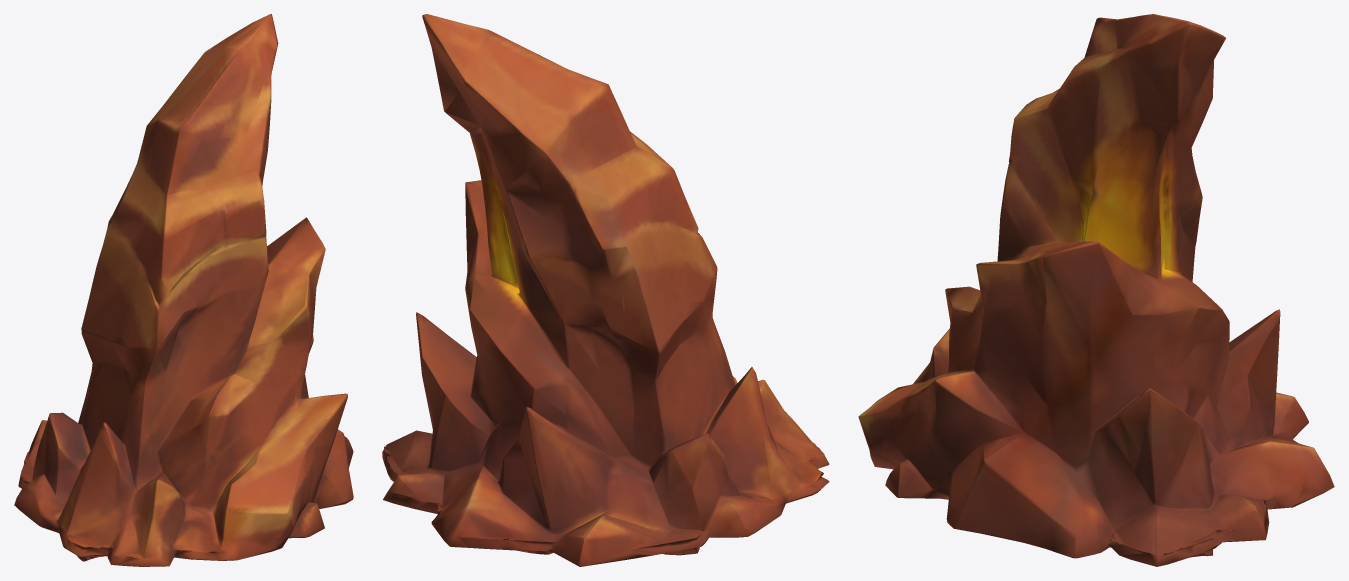
Rendered from 地裂岩柱.glb.
The picture shows the model from 3 angles, left to right: view 1: azimuth 30°, elevation 25°; view 2: azimuth 150°, elevation 25°; view 3: azimuth 270°, elevation 25°; orthographic projection. The views are drawn at different scales.
Visible parts, largest first — view 1: 地裂岩柱; view 2: 地裂岩柱; view 3: 地裂岩柱.
Part boxes in pixels (left/top/right/bottom): 地裂岩柱: left=14, top=14, right=353, bottom=566; 地裂岩柱: left=382, top=14, right=829, bottom=566; 地裂岩柱: left=858, top=14, right=1334, bottom=566.
Bounding box in the file's own units: 0.159 × 0.194 × 0.1602.
Materials: 1 (1 with a texture image).
